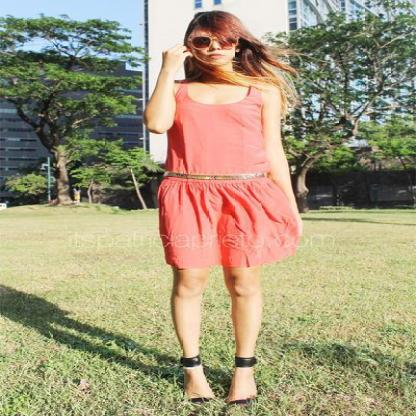dress: (162, 81, 298, 274)
shoe: (192, 375, 220, 398)
